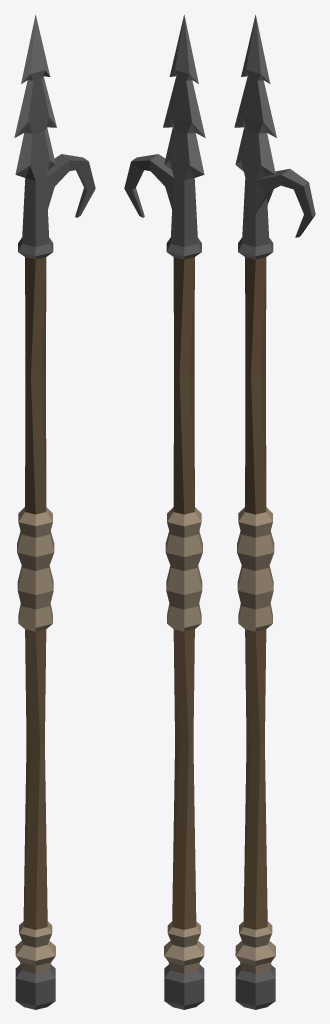
Rendered from SM_Wep_Boarding_Spear_01.glb.
3 renders of one model, left to right at view 1: azimuth 30°, elevation 25°; view 2: azimuth 150°, elevation 25°; view 3: azimuth 330°, elevation 25°, orthographic.
Visible parts, largest first — view 1: SM_Wep_Boarding_Spear_01; view 2: SM_Wep_Boarding_Spear_01; view 3: SM_Wep_Boarding_Spear_01.
Part boxes in pixels (x1,y1,x2,y2): SM_Wep_Boarding_Spear_01: (14,15,95,1009); SM_Wep_Boarding_Spear_01: (124,15,205,1009); SM_Wep_Boarding_Spear_01: (234,15,315,1009).
Bounding box in the file's own units: 0.00148 × 0.0176 × 0.000649.
